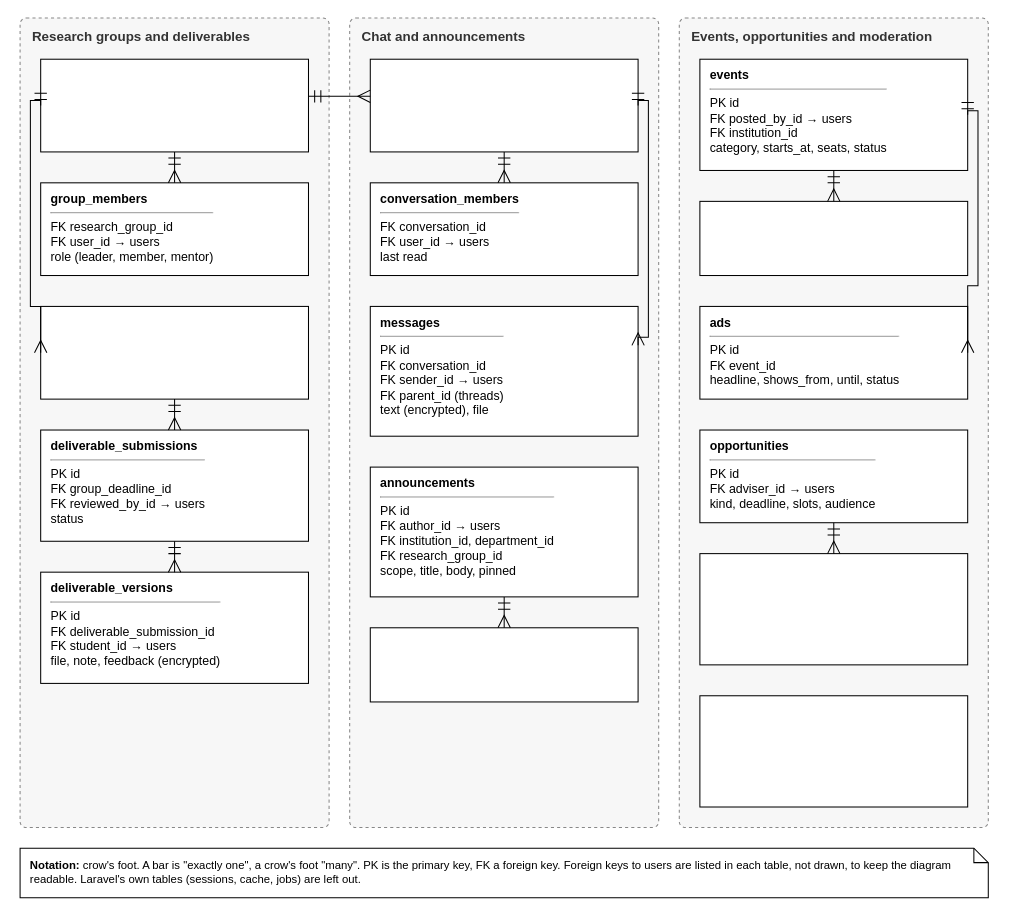
This 1009x916 diagram has some shape labels left out. Here are the shapes that lost their labels. From the top down, the centre of each, then its label:
At pixel 174 105: "research_groups PK id FK adviser_id → users name, description".
At pixel 503 105: "conversations PK id FK research_group_id (channels) kind (direct, channel), name".
At pixel 833 238: "event_registrations FK event_id FK user_id → users".
At pixel 174 352: "group_deadlines PK id FK research_group_id title, due_at, submission_mode".
At pixel 833 609: "opportunity_applications PK id FK opportunity_id FK user_id → users message".
At pixel 503 664: "announcement_reads FK announcement_id FK user_id → users".
At pixel 833 751: "reports PK id FK reporter_id → users target type and id reason, status".
